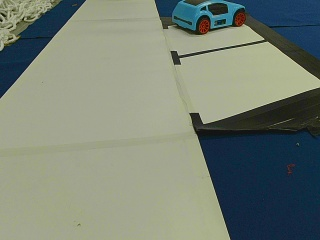car: (172, 1, 246, 34)
